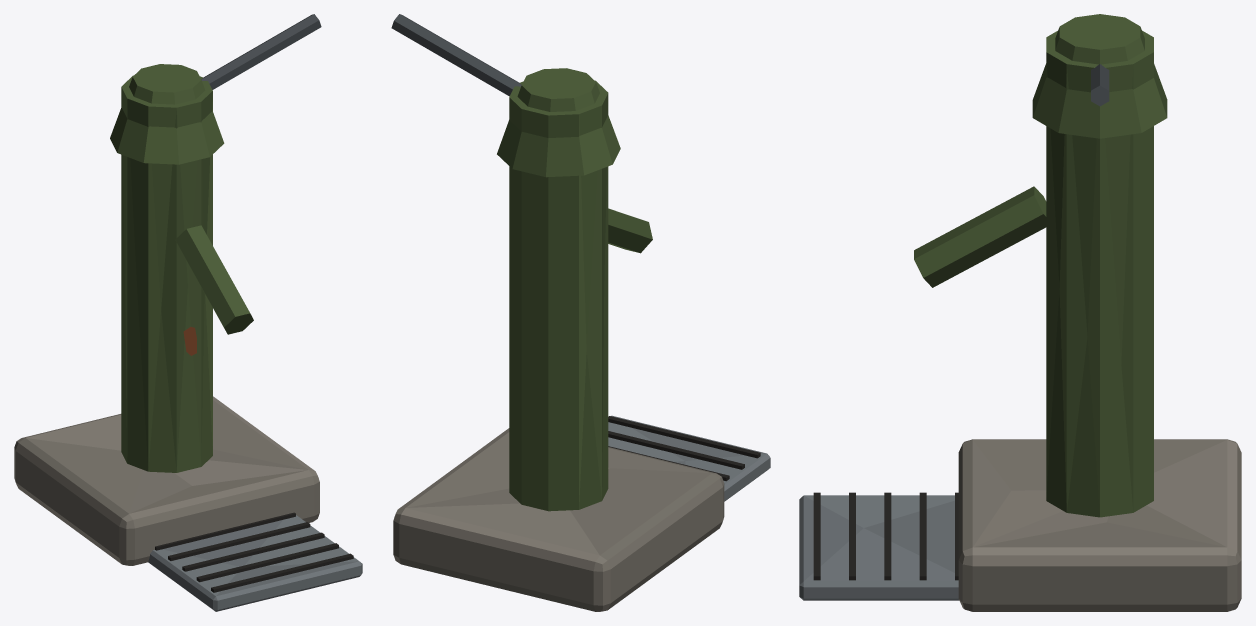
Rendered from sink_tap_ulichnaya_kolonka_idle.glb.
3 renders of one model, left to right at view 1: azimuth 30°, elevation 25°; view 2: azimuth 150°, elevation 25°; view 3: azimuth 270°, elevation 25°, orthographic. The views are drawn at different scales.
Visible parts, largest first — view 1: sink_tap_ulichnaya_kolonka_idle; view 2: sink_tap_ulichnaya_kolonka_idle; view 3: sink_tap_ulichnaya_kolonka_idle.
Part boxes in pixels (box(x1,y1,x2,y2)): sink_tap_ulichnaya_kolonka_idle: box(14, 14, 362, 611); sink_tap_ulichnaya_kolonka_idle: box(391, 14, 770, 611); sink_tap_ulichnaya_kolonka_idle: box(799, 14, 1241, 611).
Bounding box in the file's own units: 0.5046 × 0.8743 × 0.625.
1 material, 1 textured.
